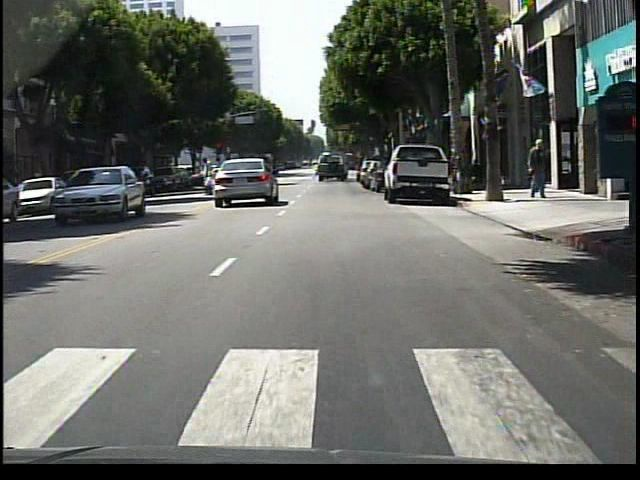person: (528, 137, 551, 200), (530, 146, 545, 197), (207, 156, 214, 200)
